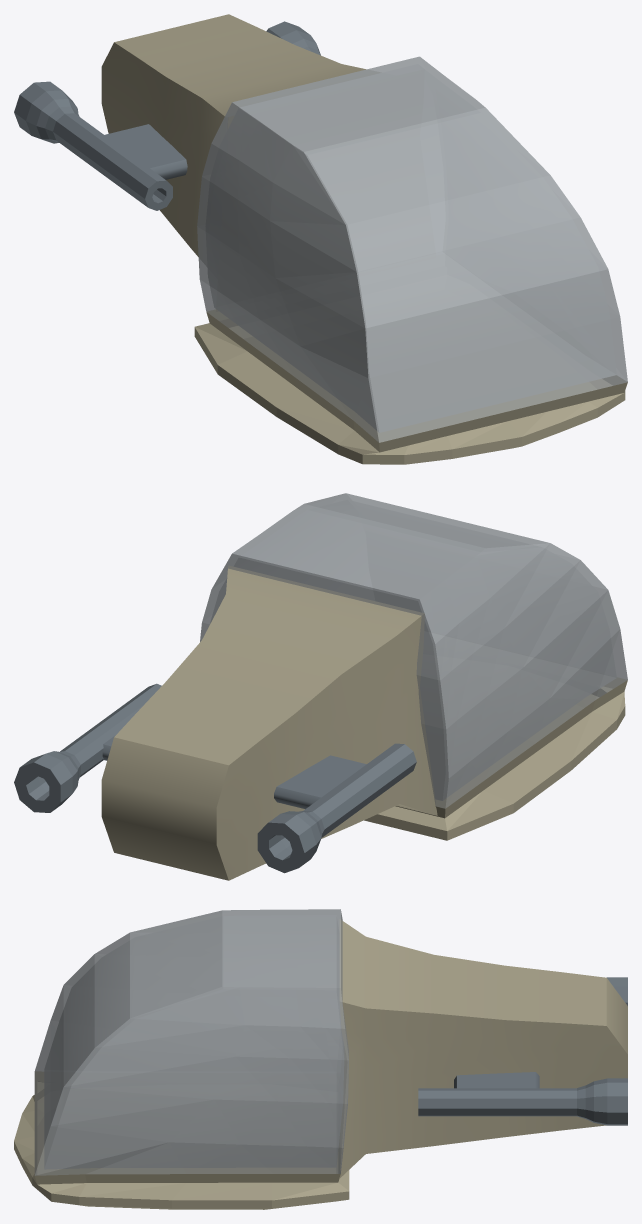
File: eb_shipB01.fbx
The picture shows the model from 3 angles, top to bottom: view 1: azimuth 30°, elevation 25°; view 2: azimuth 150°, elevation 25°; view 3: azimuth 270°, elevation 25°; orthographic projection. The views are drawn at different scales.
Parts seen in each view (by area): view 1: pCube1, pasted__pCube1, pCube2, pPipe2 (×2), pCube3; view 2: pCube1, pCube2, pasted__pCube1, pPipe2 (×2), pCube3; view 3: pCube1, pasted__pCube1, pCube2, pPipe2, pCube3.
Boxes of the visible parts, x1,y1,x2,y2 form: pCube1: (194,56,627,464); pasted__pCube1: (205,64,616,432); pCube2: (101,14,366,311); pPipe2 (×2): (14,21,320,210); pCube3: (105,124,187,179); pCube1: (200,493,627,840); pCube2: (101,566,437,880); pasted__pCube1: (210,500,616,800); pPipe2 (×2): (14,683,416,873); pCube3: (274,755,366,809); pCube1: (14,909,349,1209); pasted__pCube1: (44,915,343,1169); pCube2: (340,919,627,1177); pPipe2: (418,1078,627,1125); pCube3: (454,1072,539,1088).
Size of the model in its own units: 5100 by 3901 by 10640.
